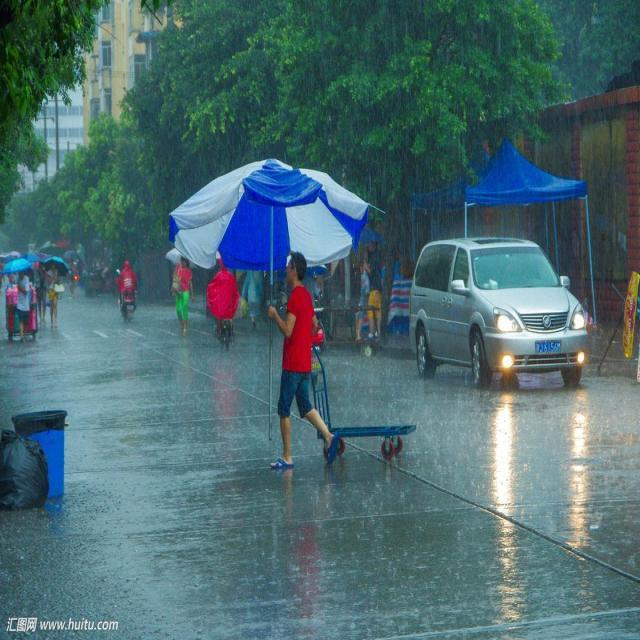car: (409, 238, 588, 382), (268, 250, 340, 470)
